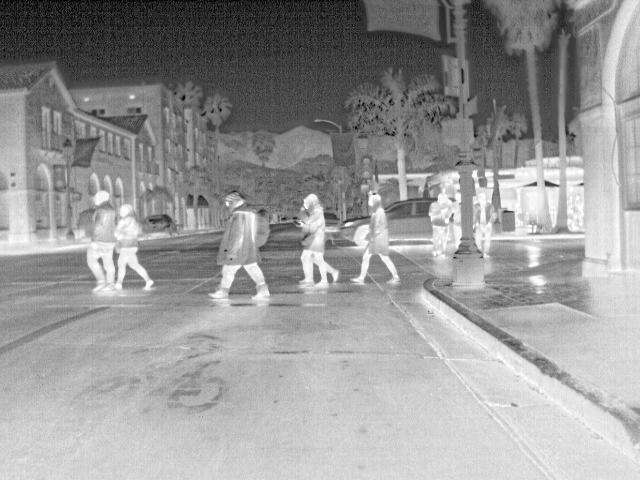car: (384, 197, 436, 242), (339, 214, 371, 248), (141, 214, 180, 240), (320, 209, 340, 232)
person: (207, 191, 273, 300), (348, 191, 401, 287), (112, 205, 157, 294), (84, 190, 119, 294), (298, 193, 327, 287), (428, 190, 454, 255), (474, 191, 496, 257), (450, 190, 464, 248), (326, 263, 341, 285)
